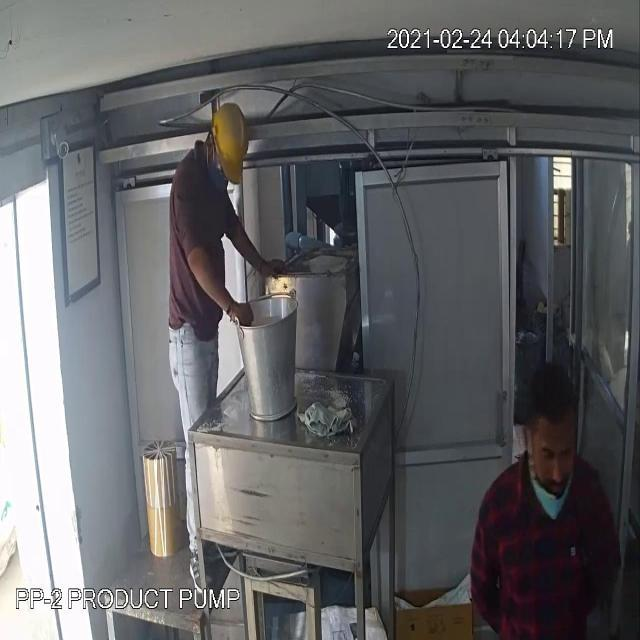hairnet: (530, 461, 576, 532)
